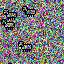sheep: (1, 19, 15, 31), (3, 8, 17, 19), (22, 6, 36, 17), (18, 41, 32, 52)
